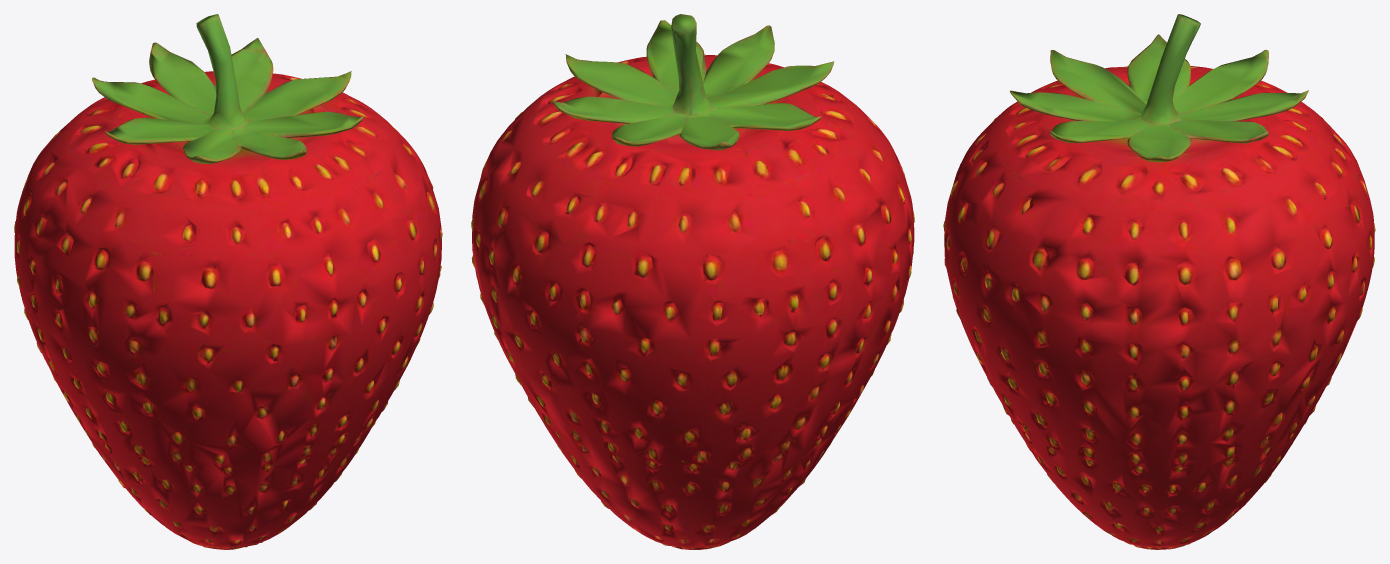
The model's file is strawberry.glb.
3 renders of one model, left to right at view 1: azimuth 30°, elevation 25°; view 2: azimuth 150°, elevation 25°; view 3: azimuth 270°, elevation 25°, orthographic. The views are drawn at different scales.
Visible parts, largest first — view 1: material; view 2: material; view 3: material.
Boxes of the visible parts, bbox=[...] form: material: bbox=[14, 14, 442, 549]; material: bbox=[471, 14, 914, 549]; material: bbox=[943, 14, 1375, 549].
Size of the model in its own units: 0.8948 by 1.19 by 0.8967.
1 material, 1 textured.
